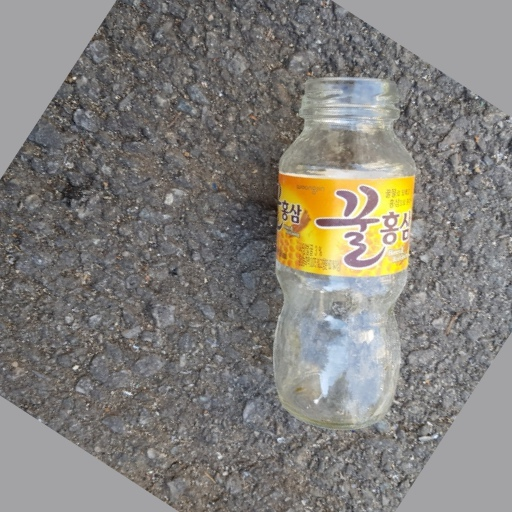Glass_4: (262, 74, 414, 430)
